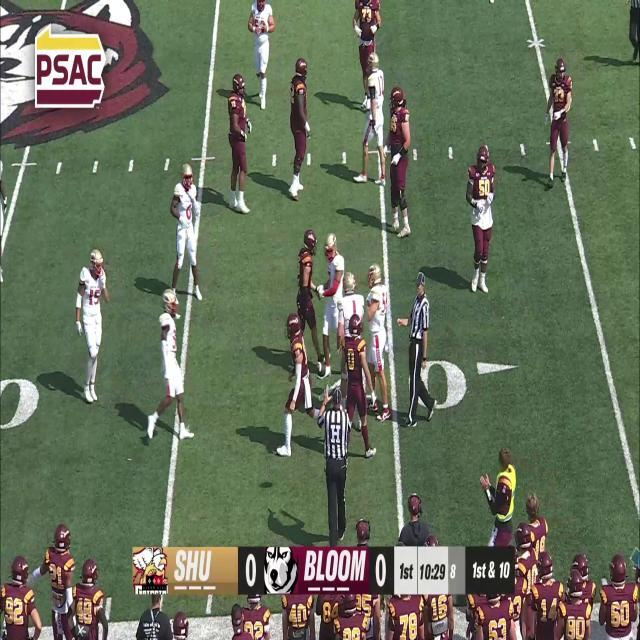football: (316, 362, 326, 378)
